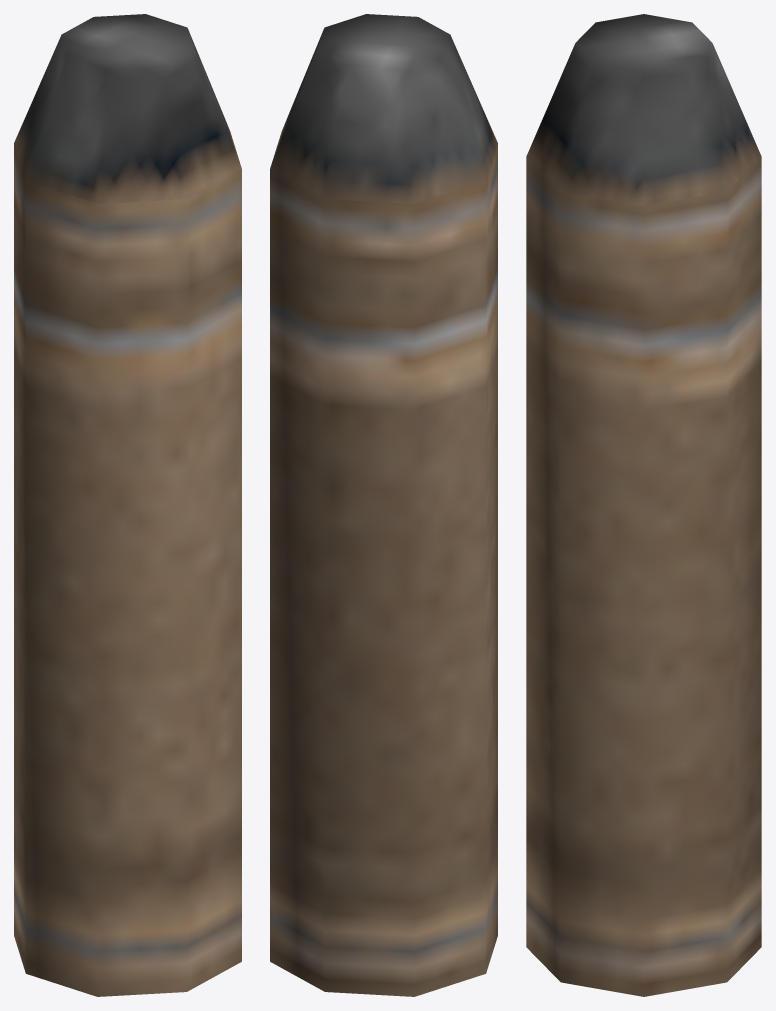
File: PaperCartridge.fbx
3 renders of one model, left to right at view 1: azimuth 30°, elevation 25°; view 2: azimuth 150°, elevation 25°; view 3: azimuth 270°, elevation 25°, orthographic.
Parts seen in each view (by area): view 1: Cube.004; view 2: Cube.004; view 3: Cube.004.
Boxes of the visible parts, box(x1,y1,x2,y2) form: Cube.004: box(14, 14, 241, 996); Cube.004: box(270, 14, 497, 996); Cube.004: box(526, 14, 761, 996).
Size of the model in its own units: 0.00691 by 0.0293 by 0.00691.
